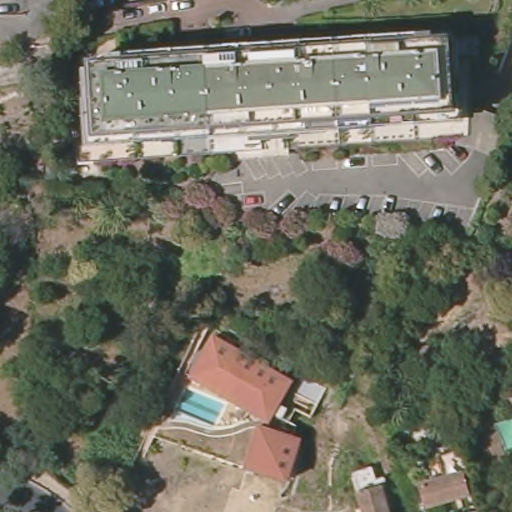pool: (176, 386, 224, 428)
